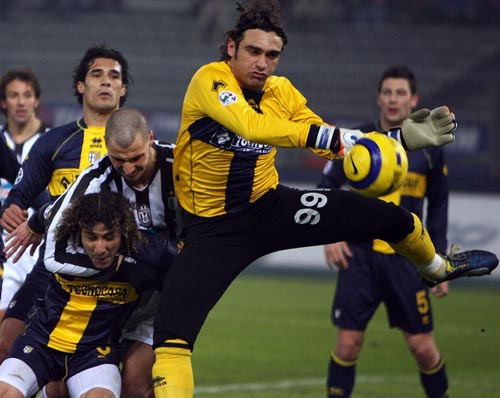ball: (344, 132, 409, 198)
